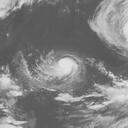cyclone: (37, 51, 86, 94)
